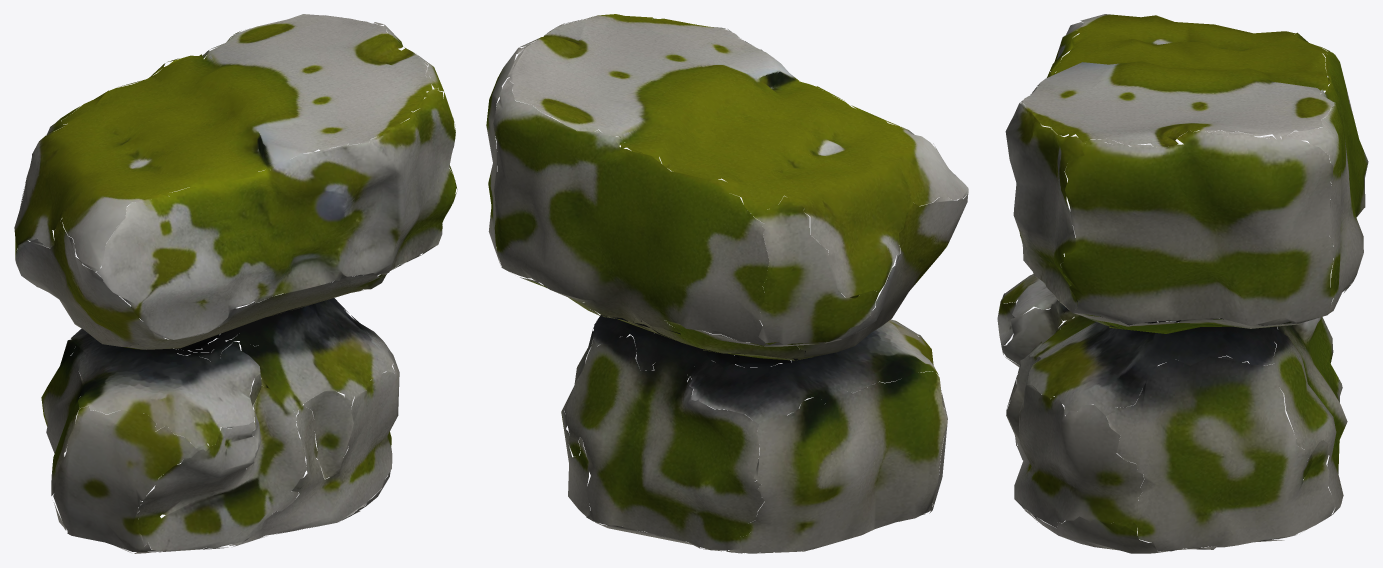
Rendered from wf-boulder.glb.
3 renders of one model, left to right at view 1: azimuth 30°, elevation 25°; view 2: azimuth 150°, elevation 25°; view 3: azimuth 270°, elevation 25°, orthographic. The views are drawn at different scales.
Parts seen in each view (by area): view 1: tmpel_67gzz.ply; view 2: tmpel_67gzz.ply; view 3: tmpel_67gzz.ply.
Part boxes in pixels (x1,y1,x2,y2): tmpel_67gzz.ply: (14,14,457,553); tmpel_67gzz.ply: (486,14,968,553); tmpel_67gzz.ply: (997,14,1368,553).
Size of the model in its own units: 0.9926 by 0.9812 by 0.7354.
Materials: 1 (1 with a texture image).
